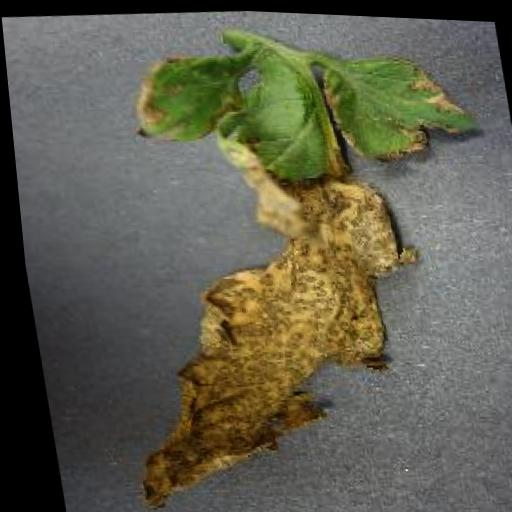Bacterial Spot: (49, 6, 512, 512)
